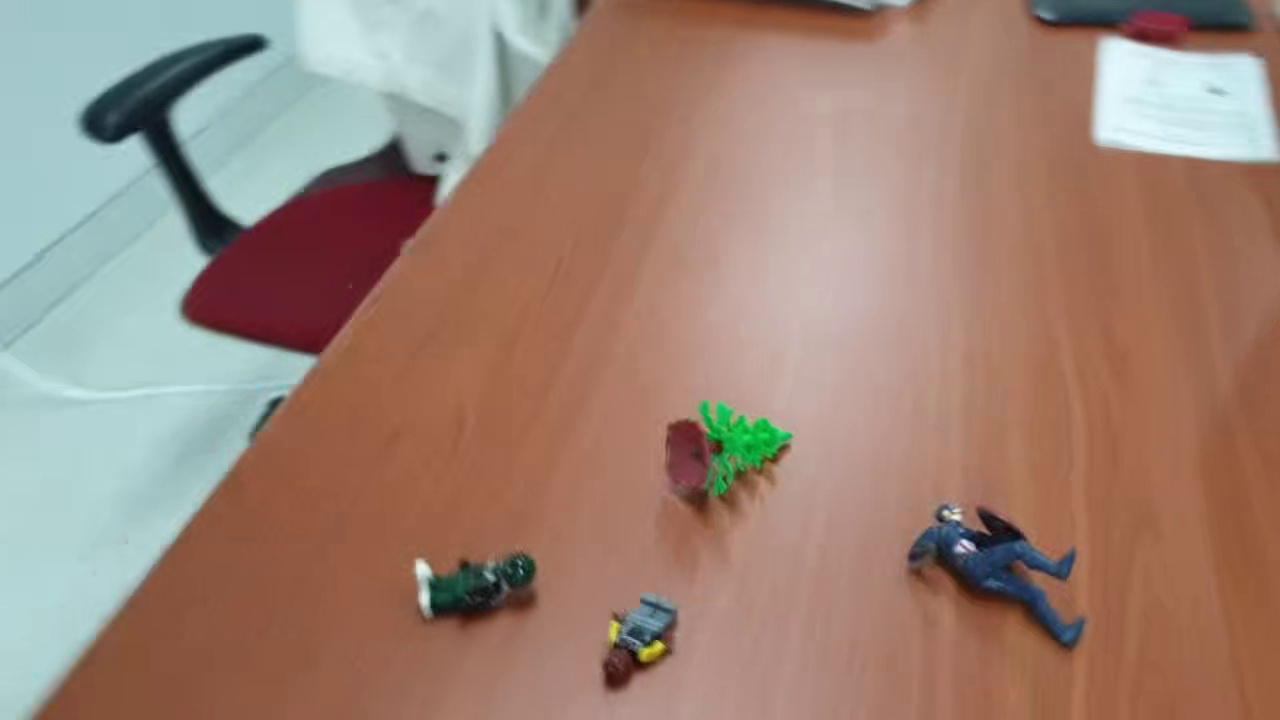people: (906, 504, 1088, 647), (412, 547, 536, 622), (594, 593, 683, 689)
tree: (660, 399, 799, 513)
